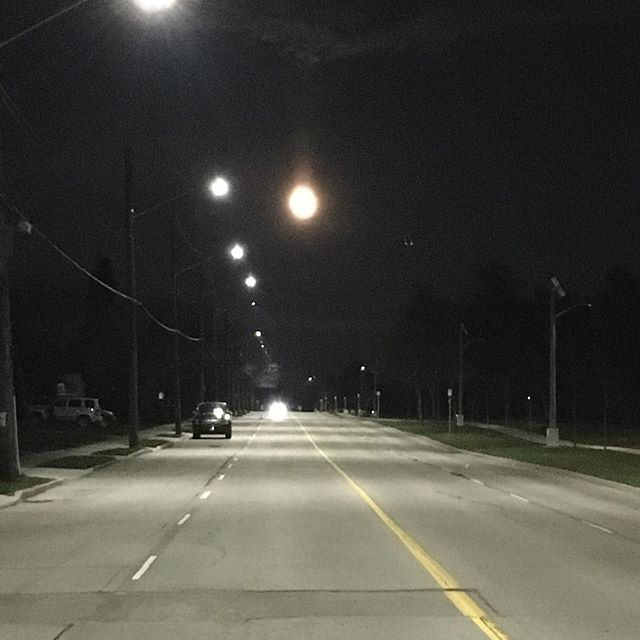car: (190, 396, 235, 447)
sky: (1, 1, 599, 285)
street: (8, 416, 628, 640)
